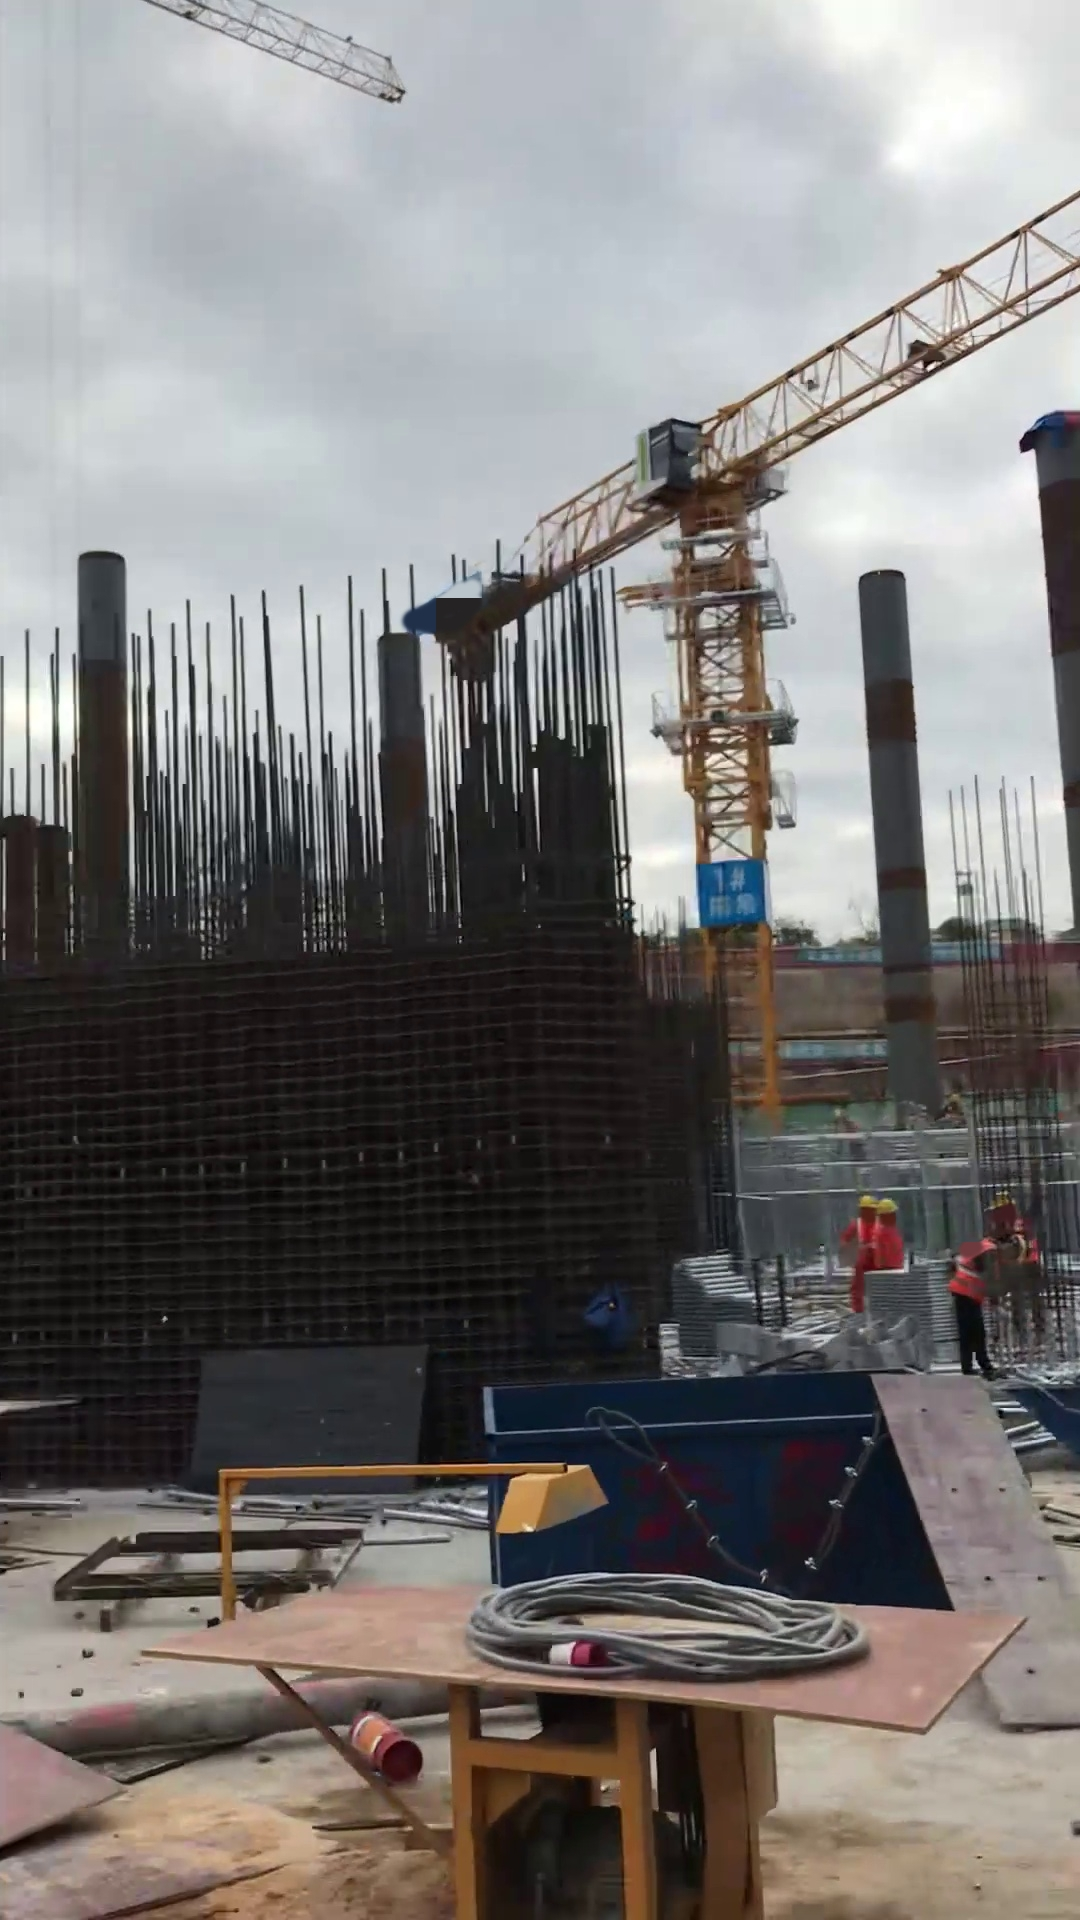cutter: (129, 1454, 1037, 1920)
helmet: (876, 1194, 901, 1221), (985, 1187, 1011, 1210), (856, 1189, 881, 1211)
hopper: (477, 1361, 963, 1615), (999, 1372, 1080, 1461)
person: (945, 1232, 1028, 1381), (984, 1188, 1049, 1351), (840, 1187, 882, 1320), (870, 1195, 908, 1270)
scaffold: (668, 1252, 793, 1359), (861, 1259, 958, 1368)
slogan: (699, 860, 773, 929), (802, 941, 1001, 964)
vest: (949, 1234, 998, 1300), (870, 1218, 904, 1271), (853, 1214, 880, 1271)
